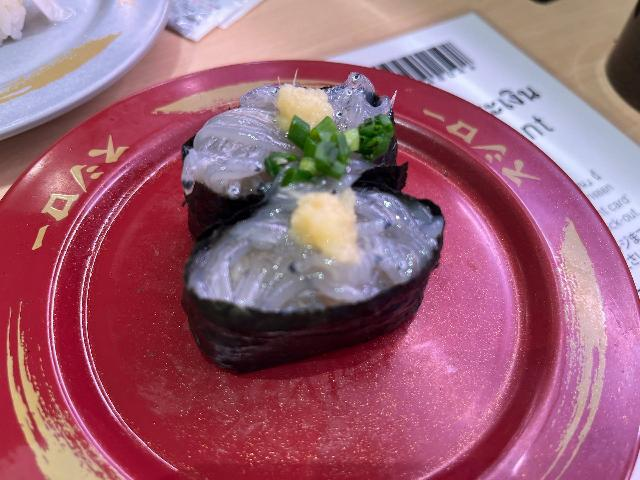janred: (53, 119, 582, 464)
janwhite: (0, 0, 173, 112)
